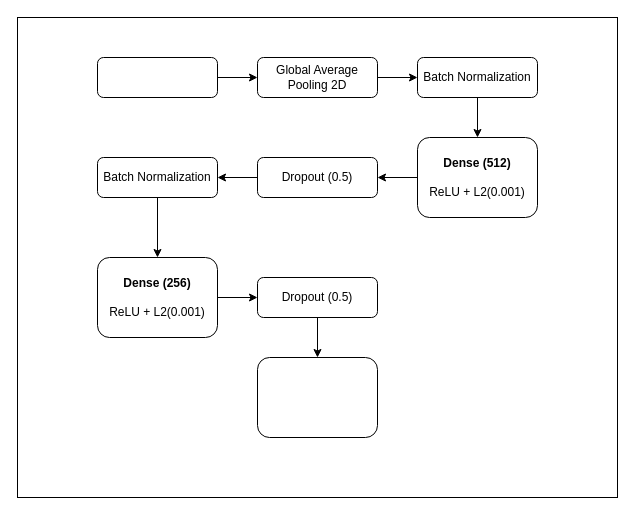
The diagram is 635 pixels wide and 515 high, and some of its shapes have lost their labels. The shapes that lost their labels are listed below. From the top down, each one's centre as x and y in pixels, then its label:
the point at 157,77: Classification Head
the point at 317,397: Dense (1) Sigmoid (Binary Output)
